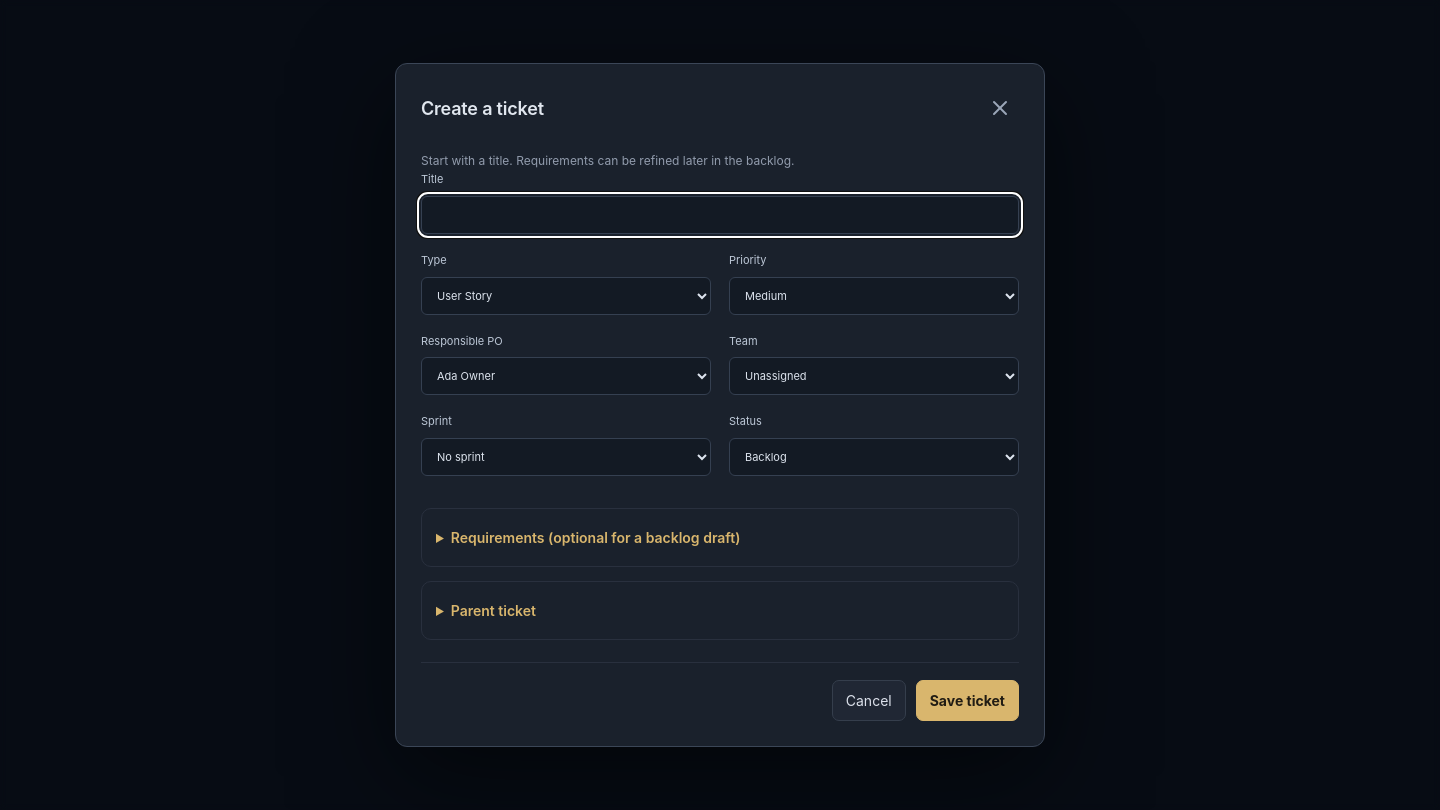
Test: Product Owner workflows › validates ticket title before calling the API
Click the button "Save ticket" at (967,700), box left=916, top=680, right=1019, bottom=721
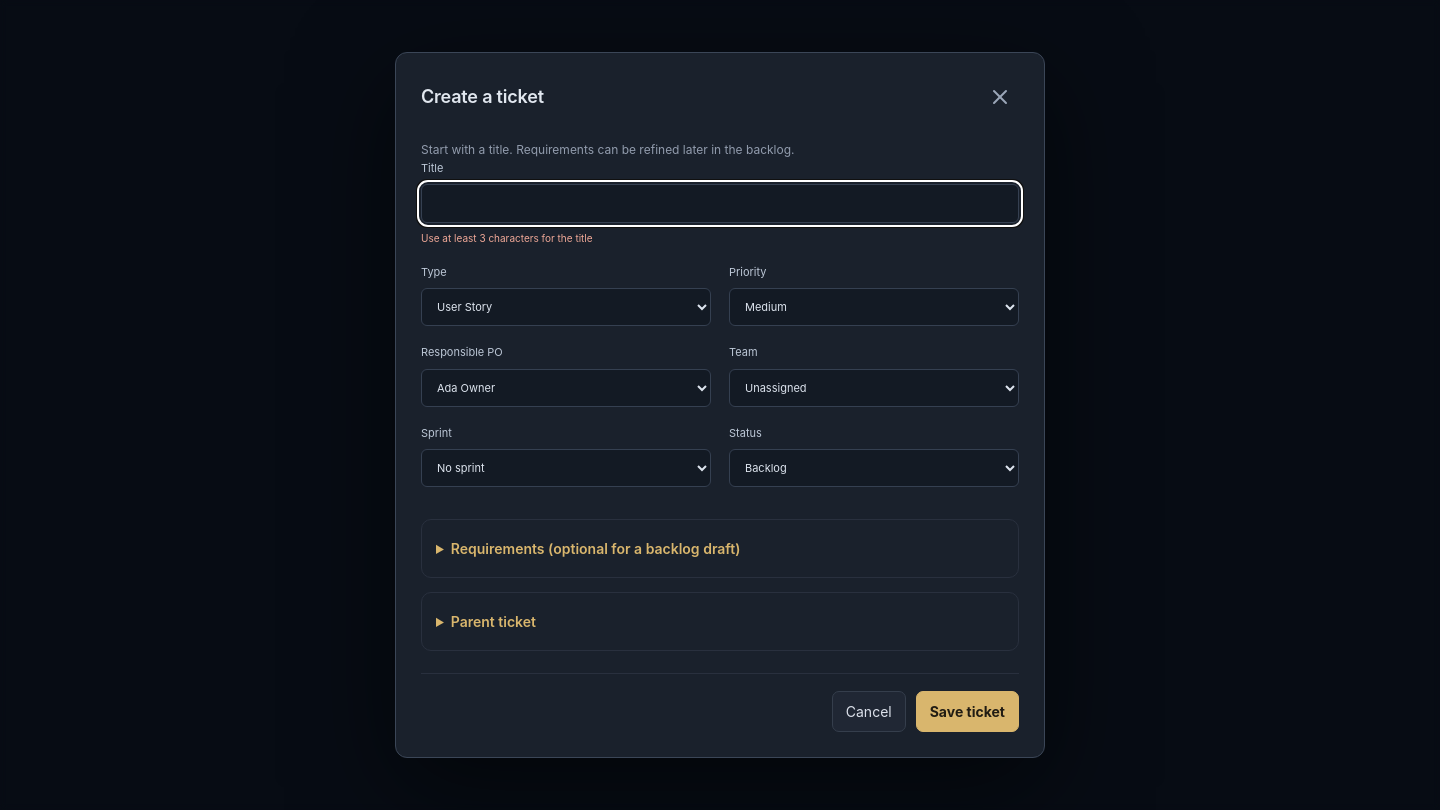
Check: the message shows "at least 3", box left=421, top=232, right=593, bottom=244
